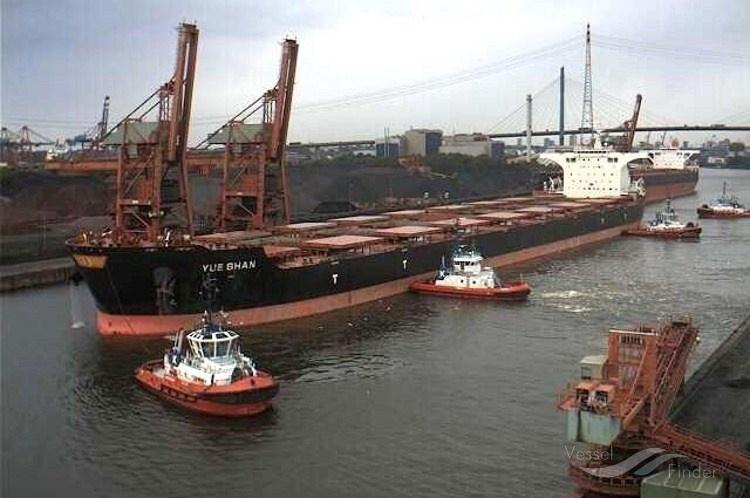OCR: (200, 257, 259, 276)
